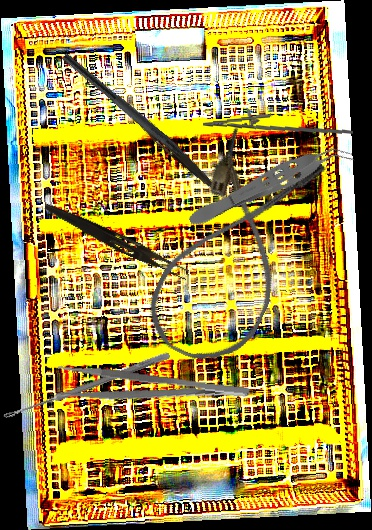Cannula: (135, 122, 332, 379)
Chopper: (53, 52, 211, 185)
Dressing Forceps: (40, 201, 193, 281), (54, 363, 251, 417), (122, 106, 223, 193)
Needle Holder: (201, 99, 354, 146)
Surgical Spoon: (2, 350, 171, 422)
Tissue Forceps: (184, 134, 355, 235)
